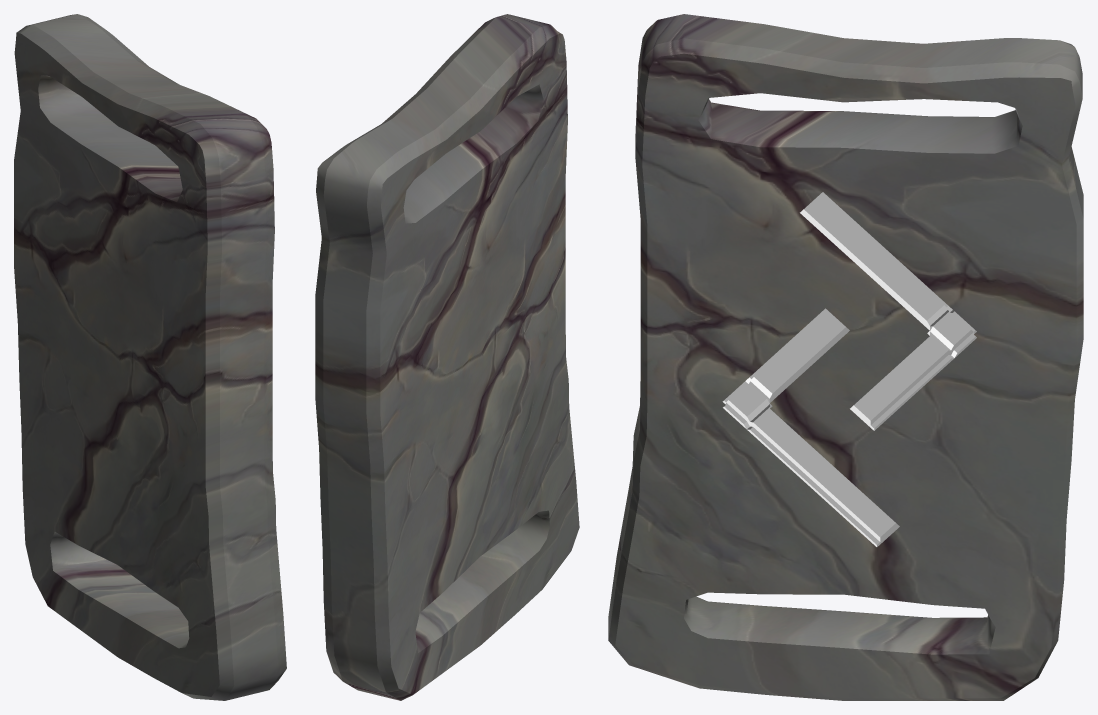
Rendered from Rune_All.fbx.
3 renders of one model, left to right at view 1: azimuth 30°, elevation 25°; view 2: azimuth 150°, elevation 25°; view 3: azimuth 270°, elevation 25°, orthographic. The views are drawn at different scales.
Visible parts, largest first — view 1: Rune_All; view 2: Rune_All; view 3: Rune_All.
Part boxes in pixels (left/top/right/bottom): Rune_All: left=14, top=14, right=286, bottom=700; Rune_All: left=315, top=14, right=579, bottom=700; Rune_All: left=608, top=14, right=1083, bottom=700.
Size of the model in its own units: 7.87 by 66.2 by 43.02.
